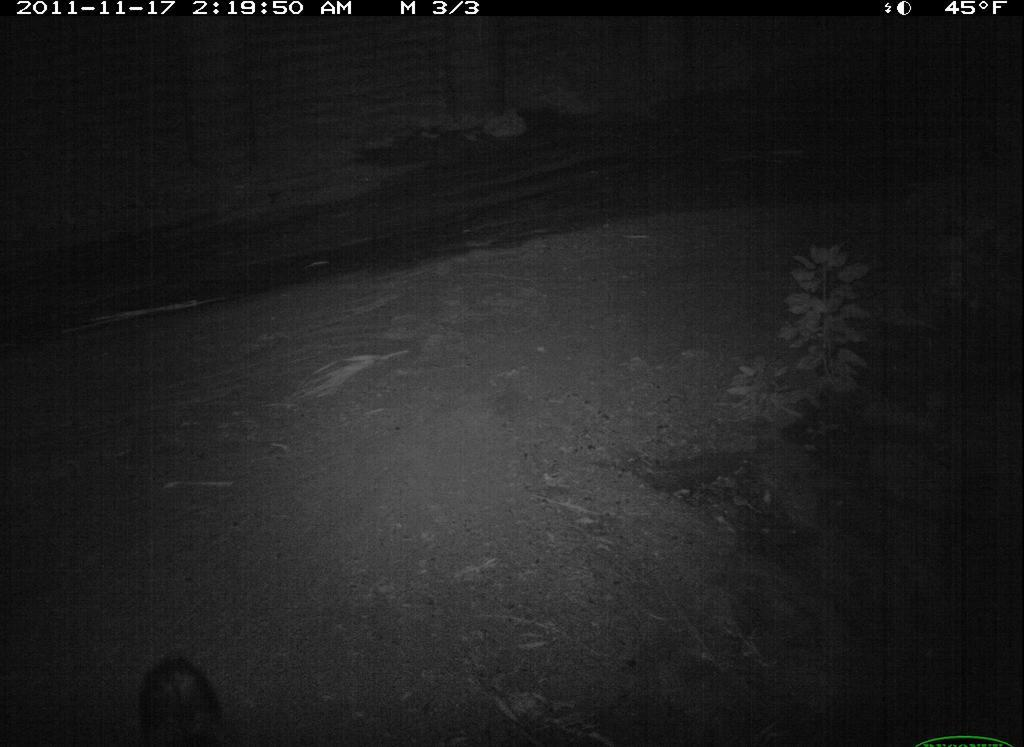skunk: (134, 646, 246, 747)
